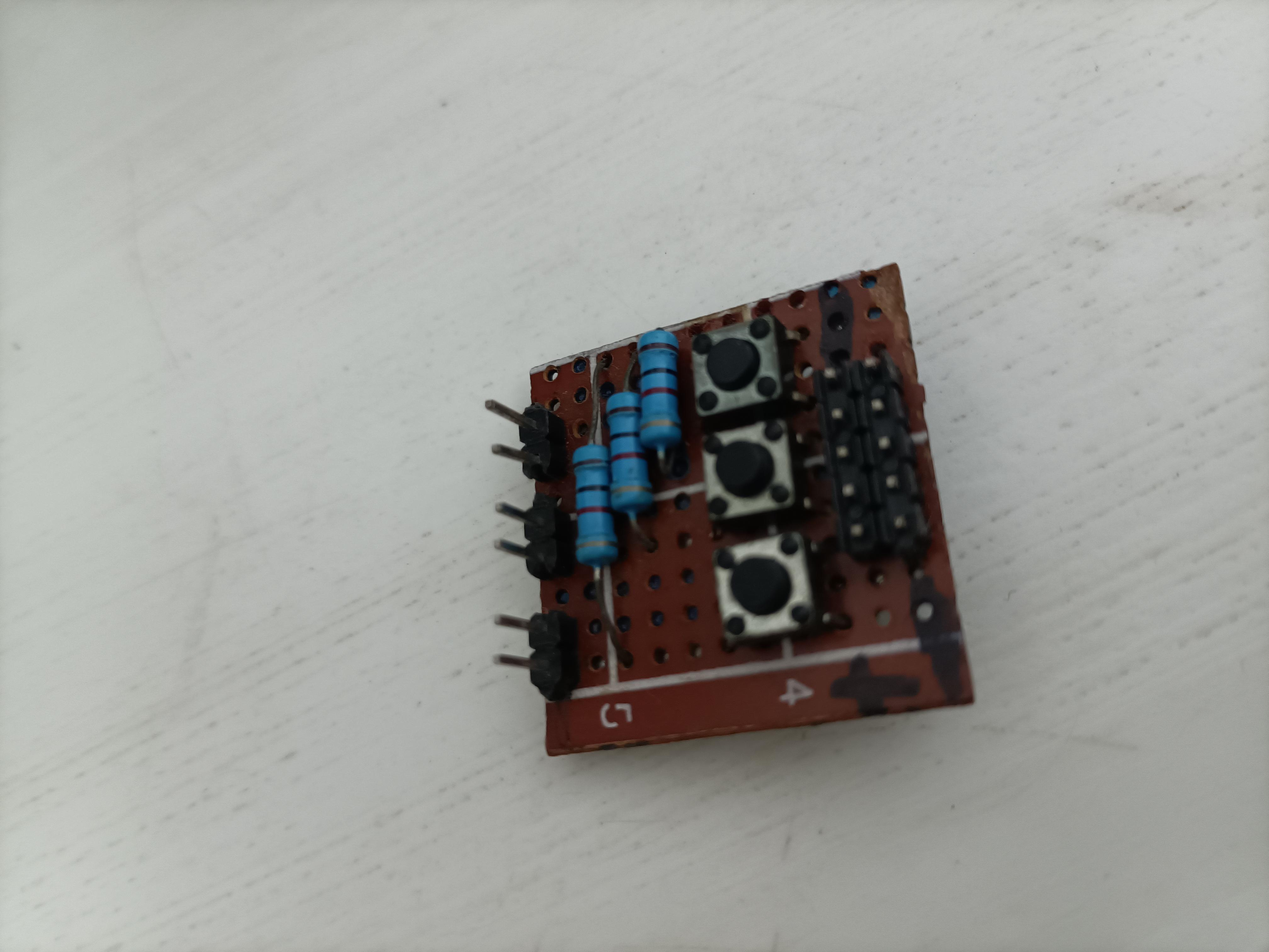Resistencia: (567, 427, 623, 568), (603, 383, 660, 520), (634, 314, 686, 463)
